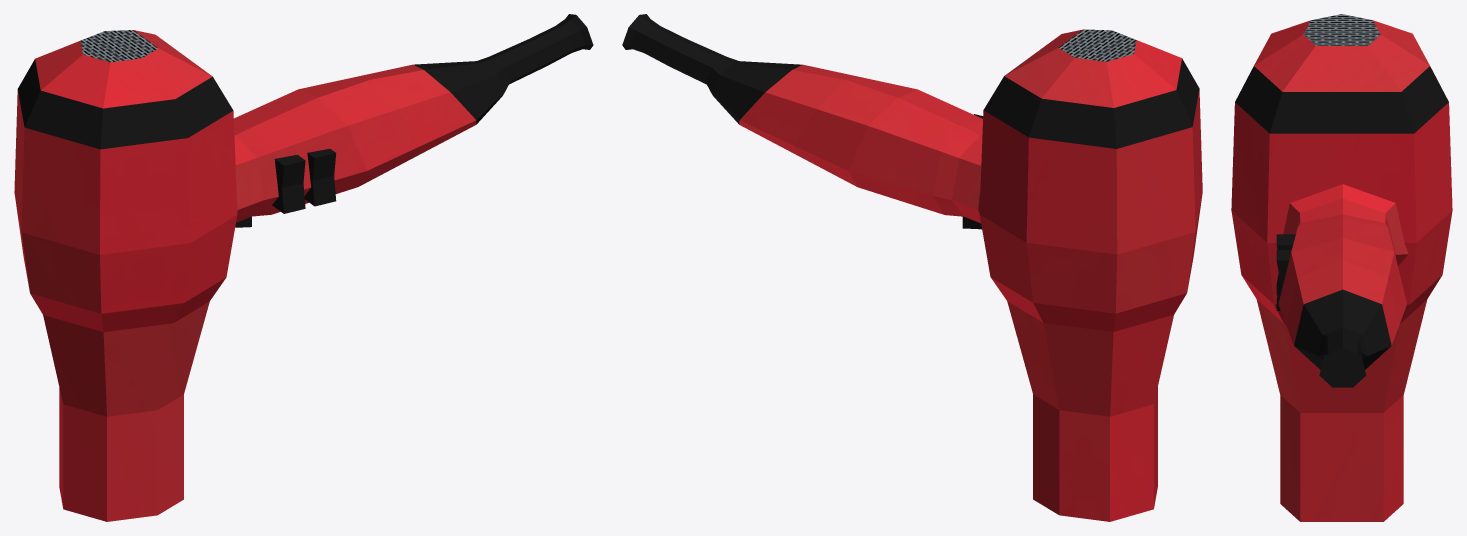
Rendered from phon.fbx.
3 renders of one model, left to right at view 1: azimuth 30°, elevation 25°; view 2: azimuth 150°, elevation 25°; view 3: azimuth 270°, elevation 25°, orthographic. The views are drawn at different scales.
Visible parts, largest first — view 1: phon; view 2: phon; view 3: phon.
Boxes of the visible parts, x1=… form: phon: x1=14, y1=14, x2=593, y2=521; phon: x1=622, y1=14, x2=1202, y2=521; phon: x1=1231, y1=14, x2=1452, y2=521.
Bounding box in the file's own units: 0.3728 × 0.2843 × 0.122.
